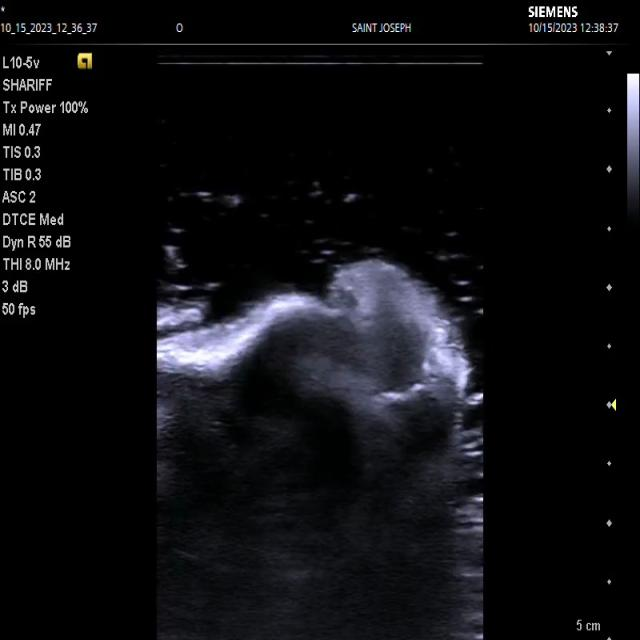tissue: (157, 260, 470, 640)
